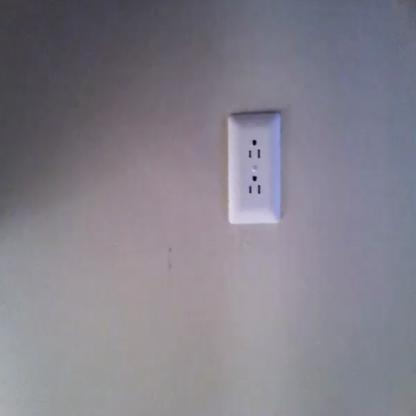OUTLET: (226, 111, 282, 225)
